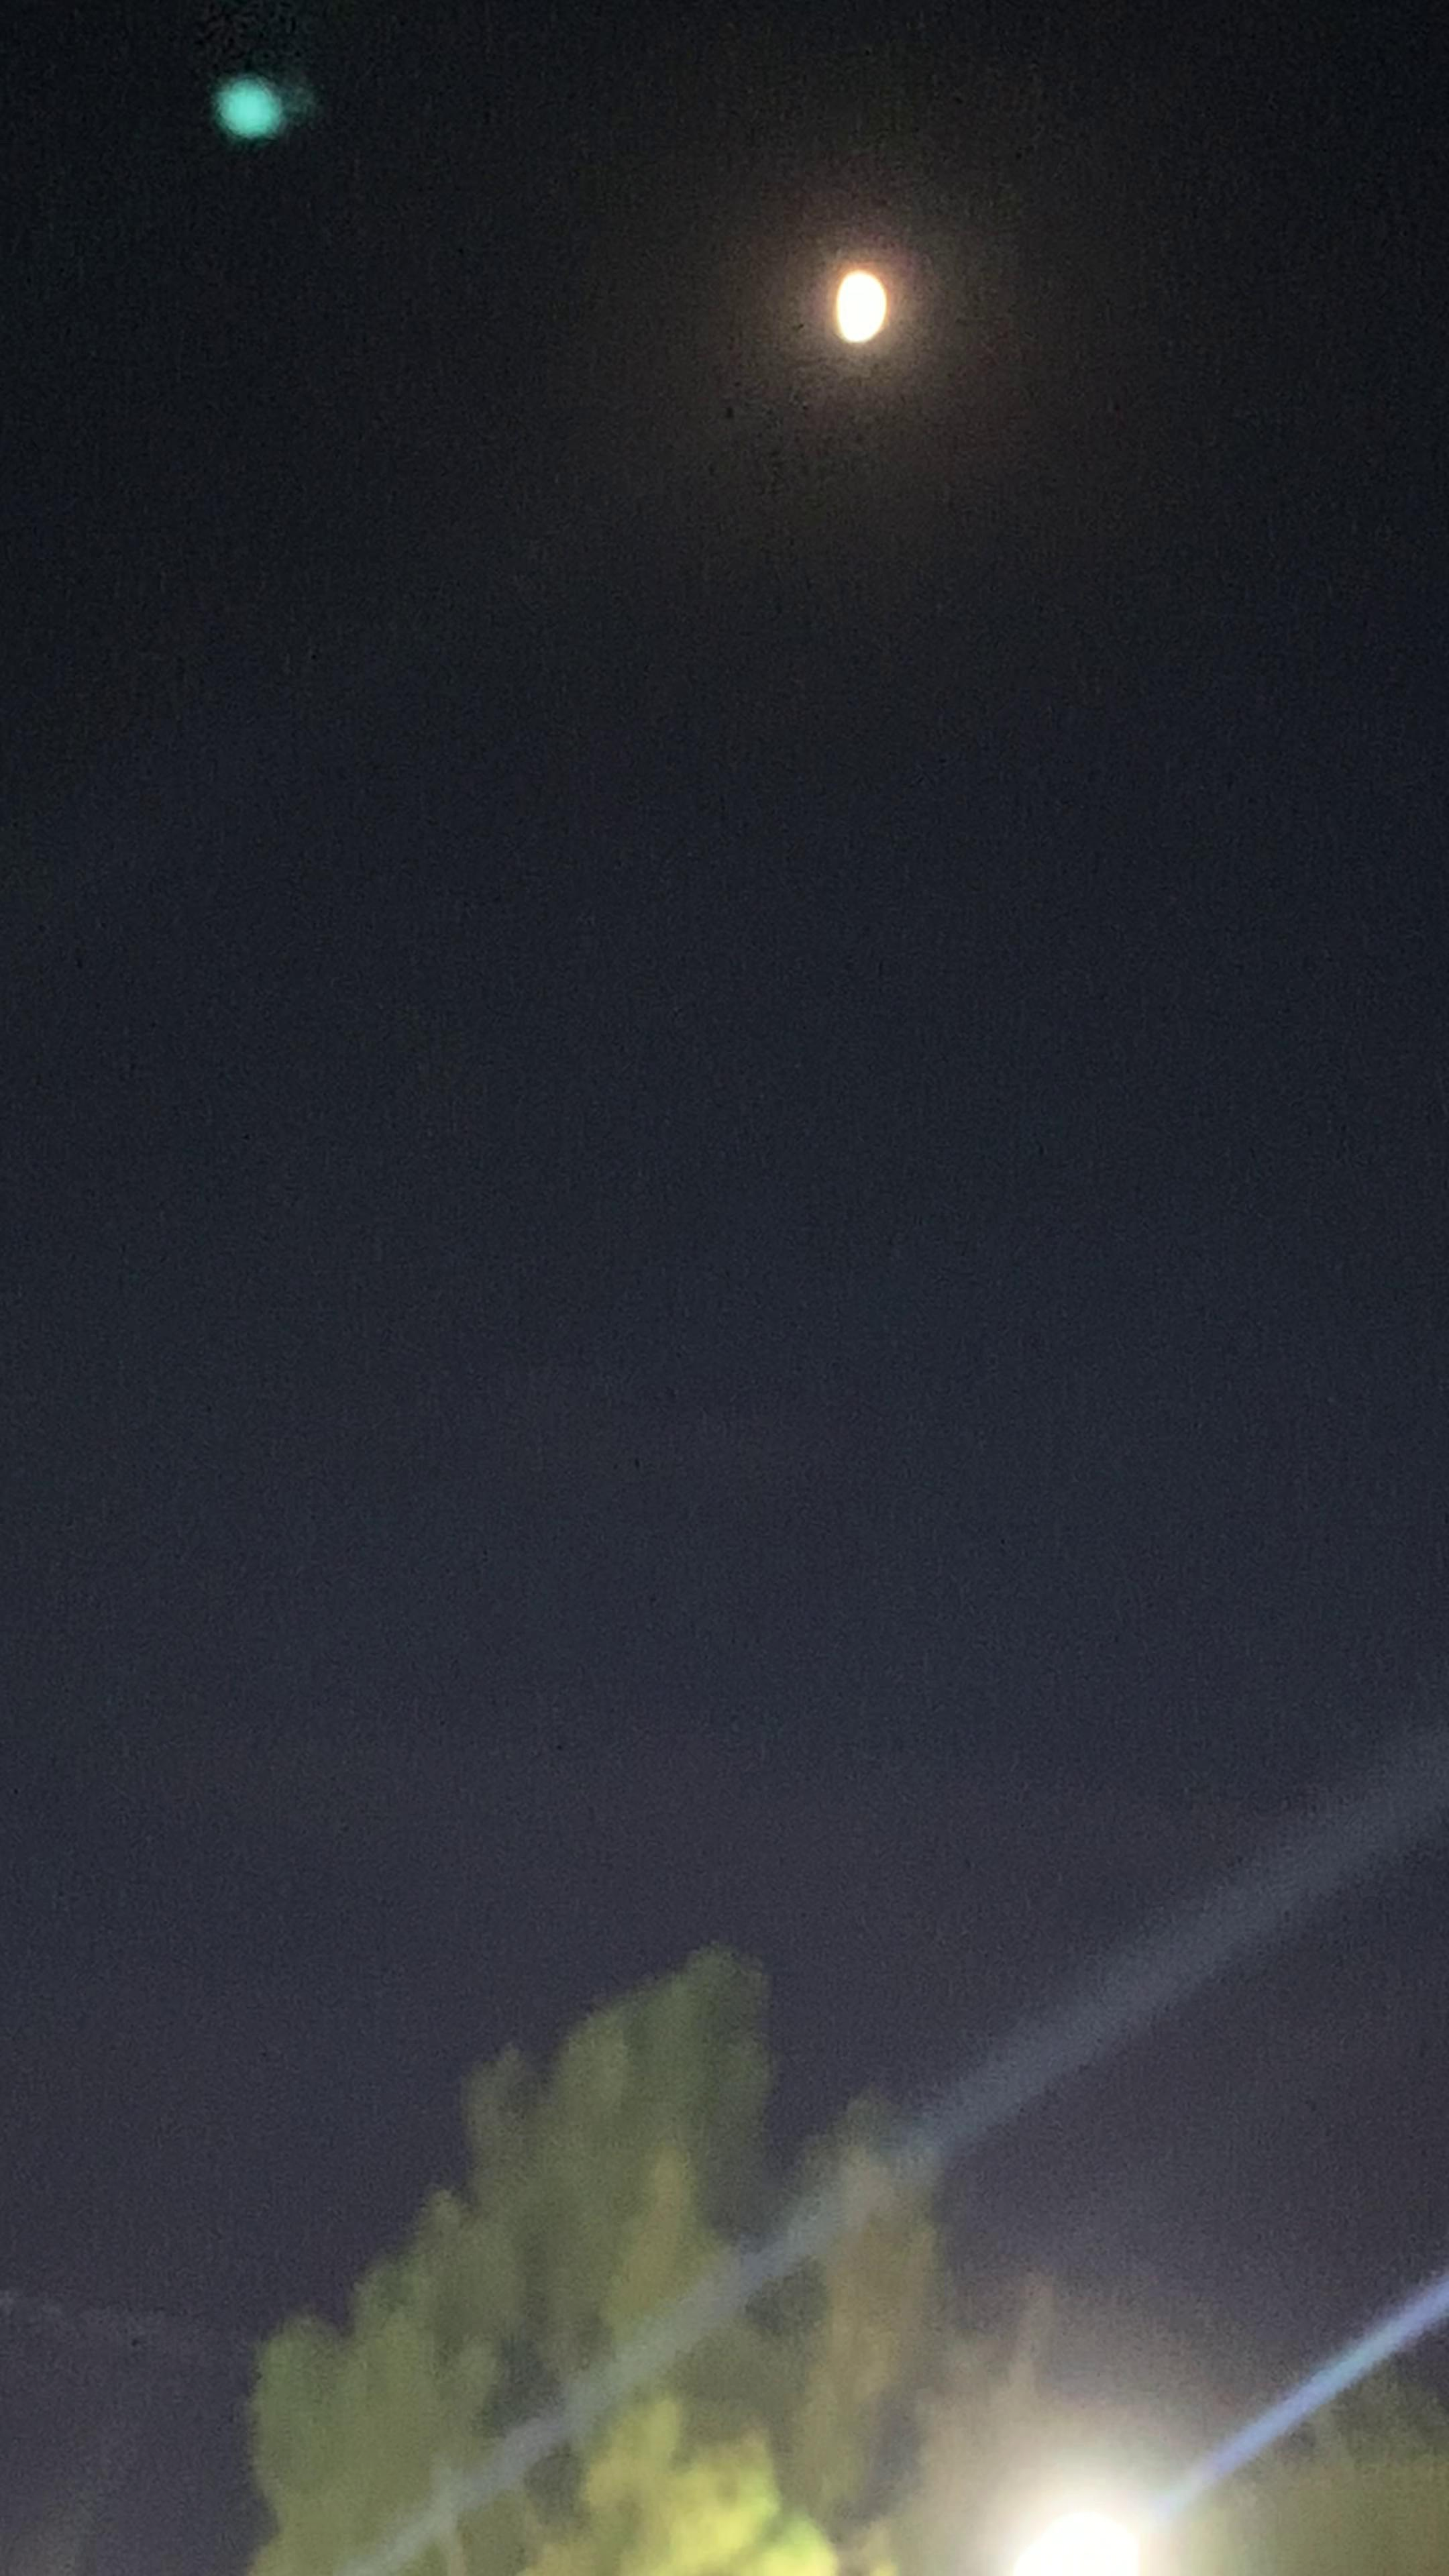moon: (796, 251, 931, 373)
